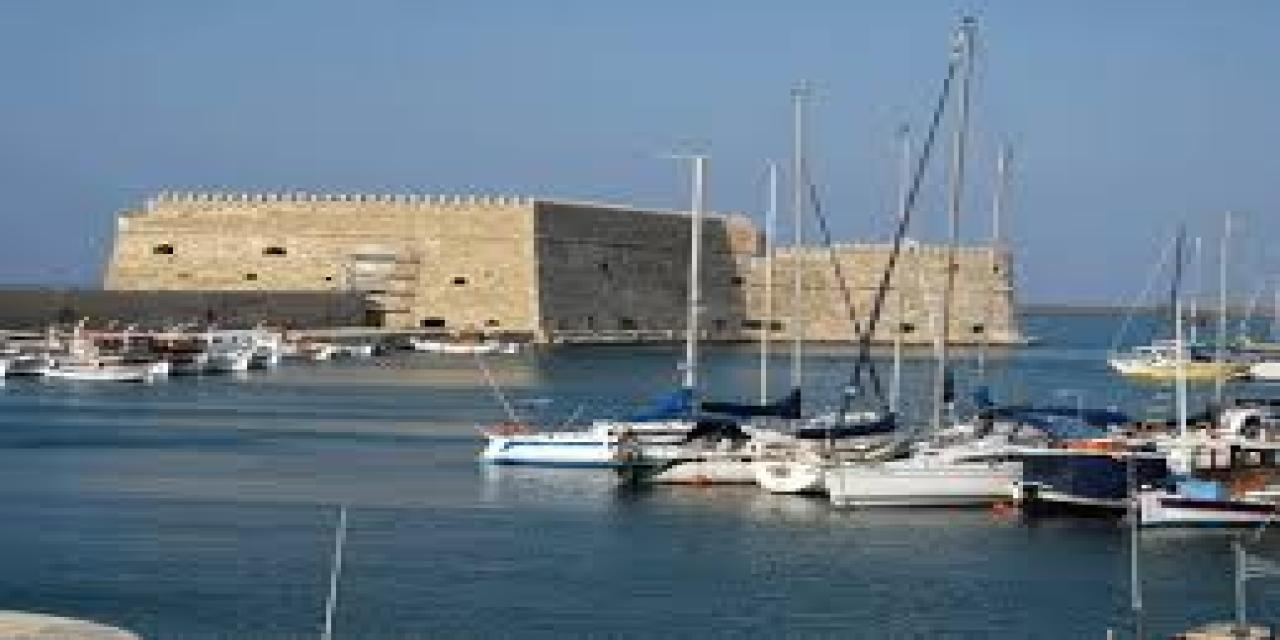Kules: (110, 183, 1036, 351)
